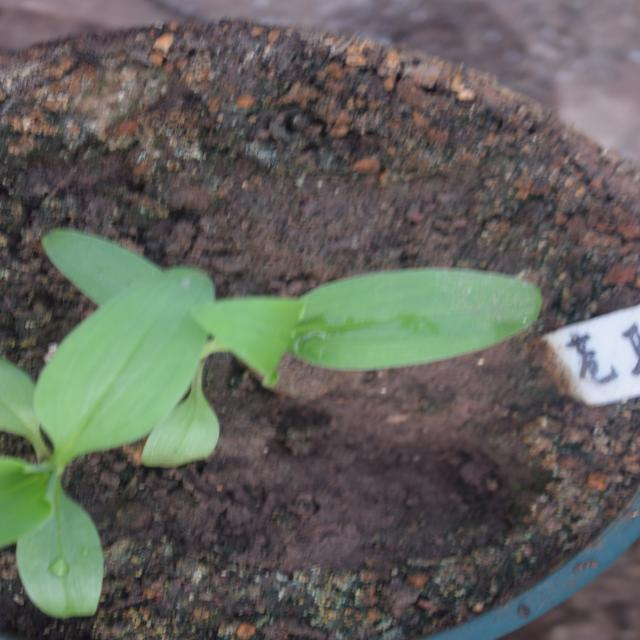Common Dayflower: (229, 105, 515, 617)
